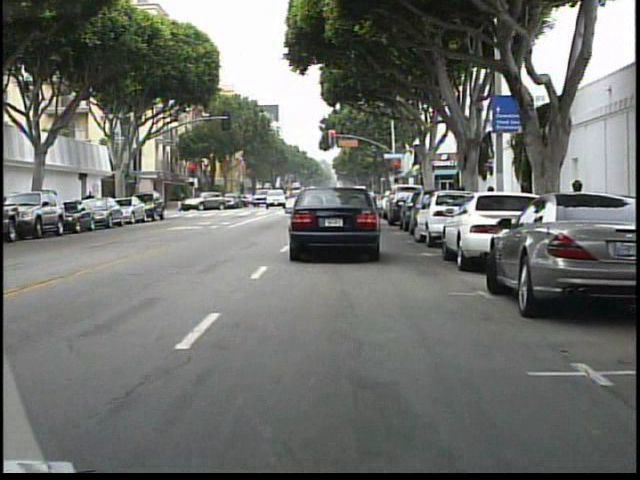person: (83, 187, 100, 224), (179, 190, 194, 216)
